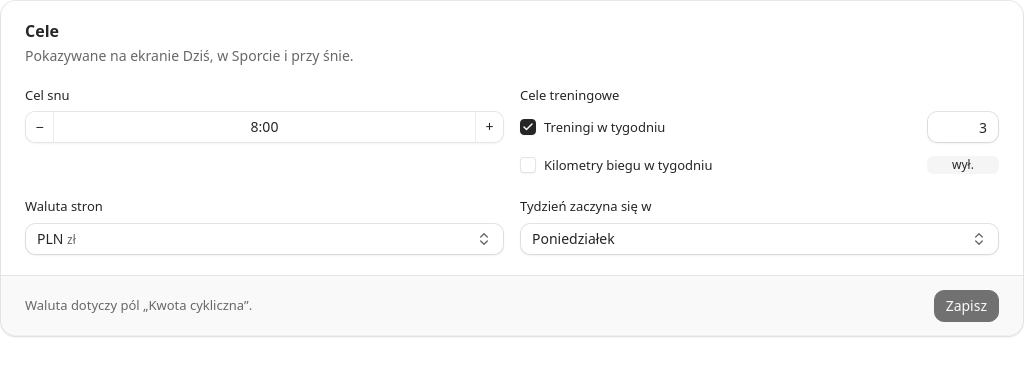
Test: GoalsCard › oba cele wyłączone → „Włącz co najmniej jeden cel.” i Zapisz nieaktywne
The image size is (1024, 376).
Click the checkbox named "Treningi w tygodniu" at (528, 127), box x1=520 y1=119 x2=536 y2=135
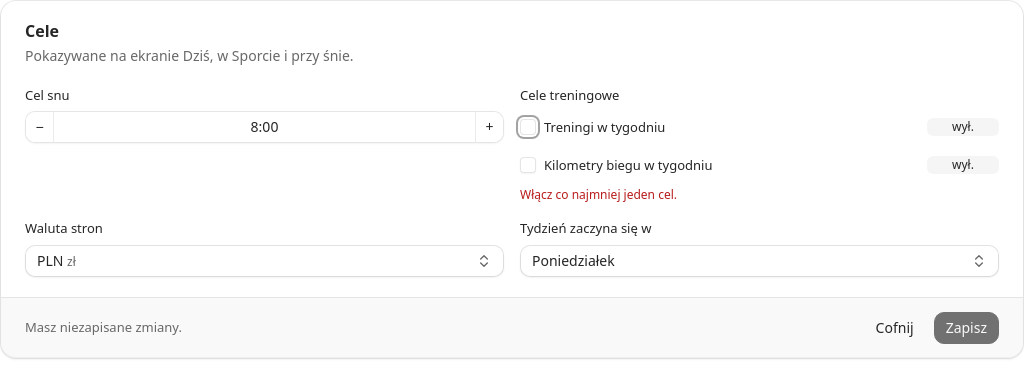
Expected: the button "Zapisz" is disabled, x1=934 y1=312 x2=999 y2=344
Now the text "Włącz co najmniej jeden cel." is shown, box x1=520 y1=186 x2=677 y2=203
